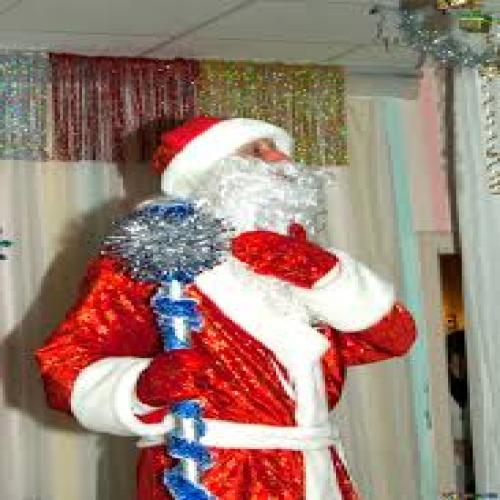Santa: (34, 113, 417, 498)
